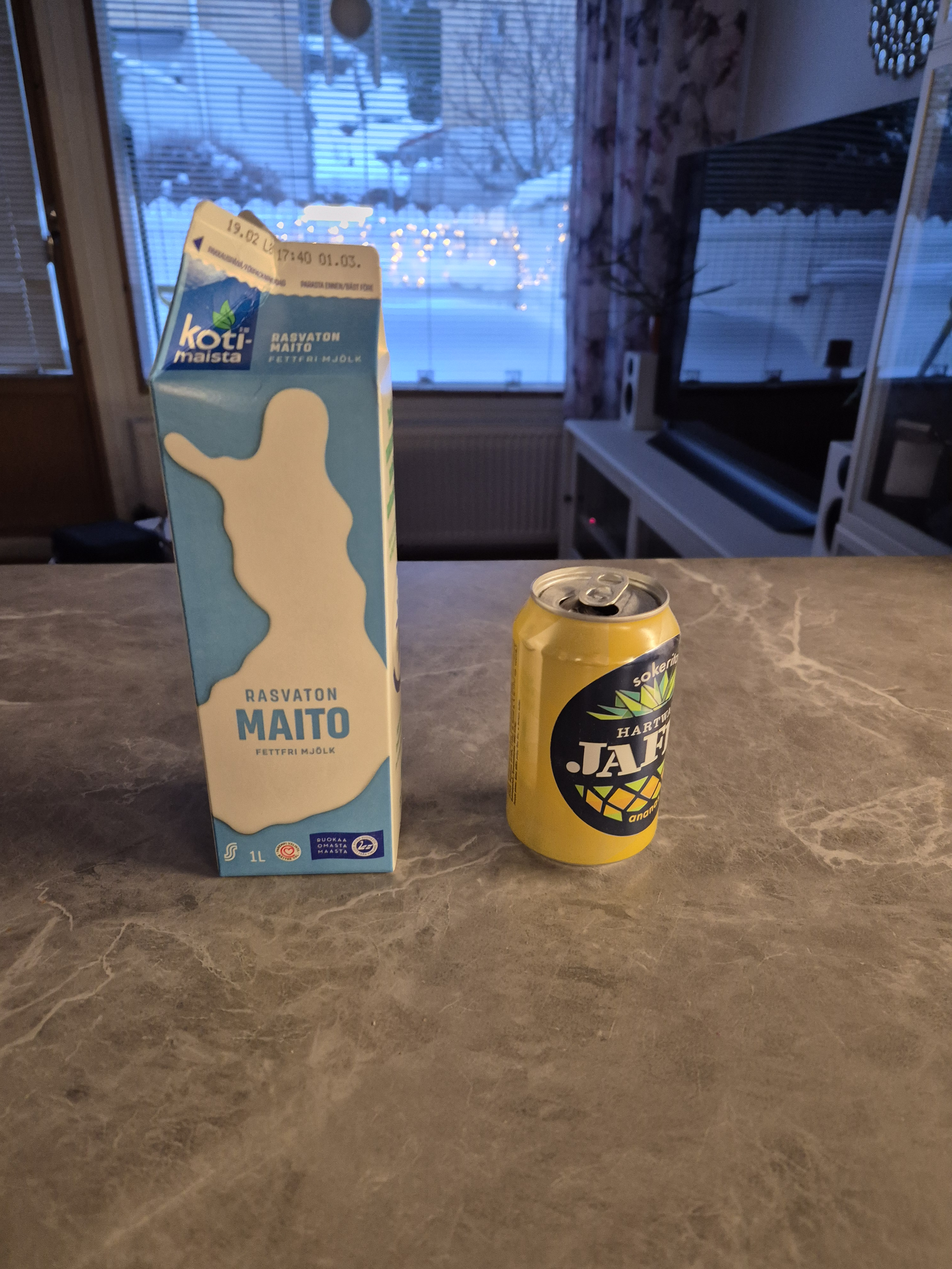Dryckeskartong: (148, 198, 406, 879)
Pantburk: (504, 564, 682, 868)
